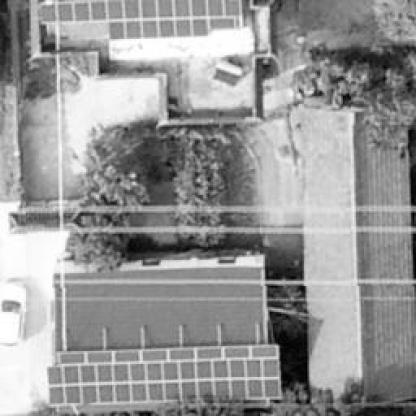solar-pv-panel: (46, 344, 283, 406), (40, 0, 240, 39)
